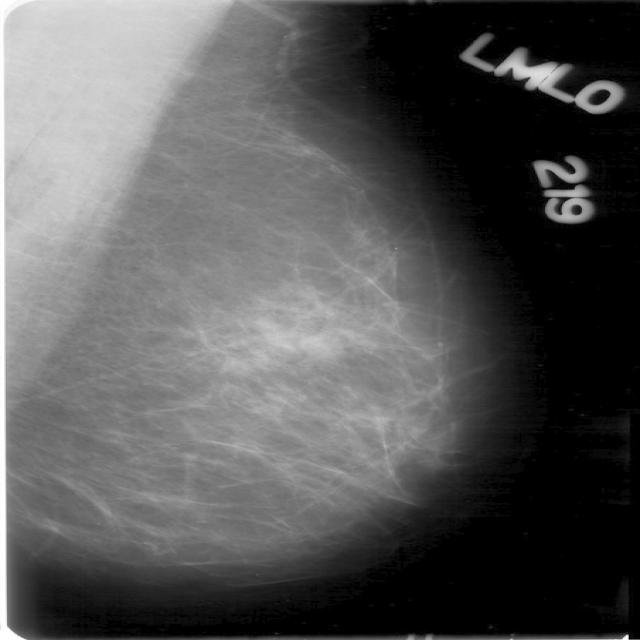tumour: (298, 333, 346, 360)
